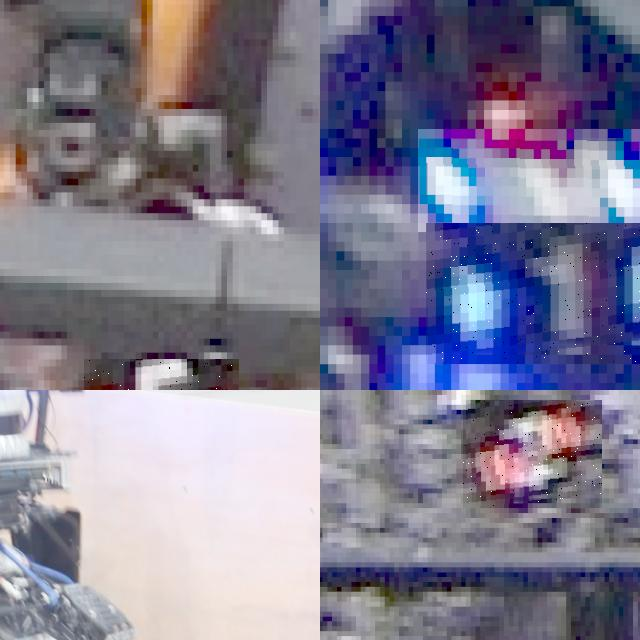B1: (426, 223, 640, 364), (418, 129, 640, 232)
R2: (463, 400, 602, 508)
R5: (84, 359, 238, 390)
